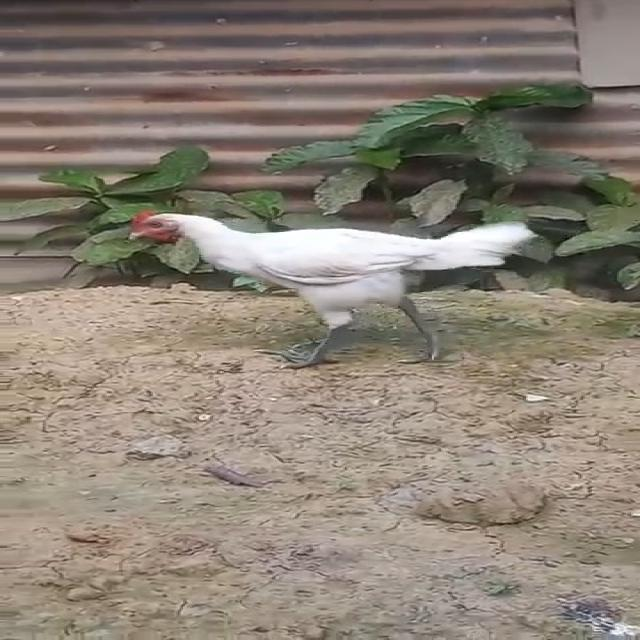walking: (107, 198, 530, 376)
